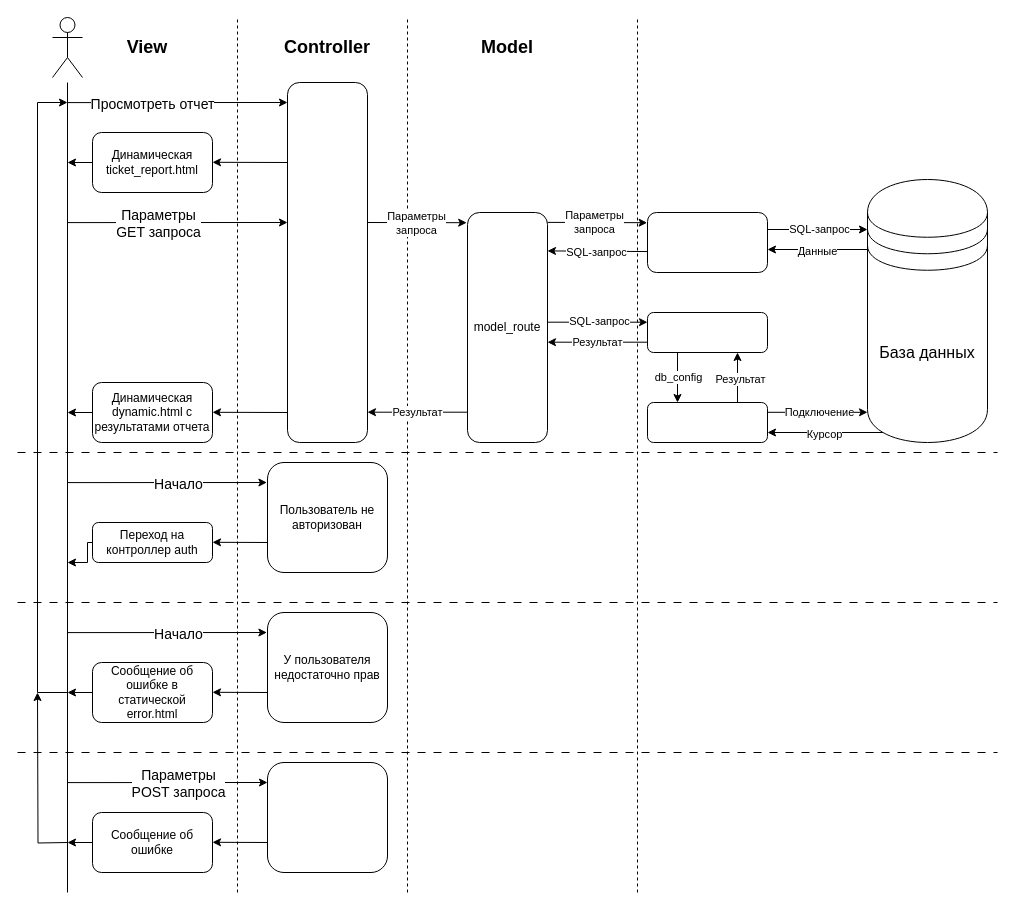
Some shapes in this 1016 by 911 pixel diagram are drawn without their labels. Here are the shapes that lost their labels. From the top down, the centre of each, then its label:
(x=327, y=262): route
(x=707, y=242): SQL Provider
(x=707, y=332): select_typed
(x=707, y=422): DB Context Manager
(x=327, y=817): За данный период отчета не существует
